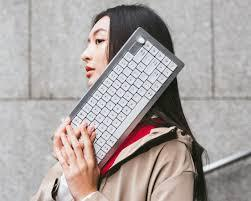keyboard: (67, 26, 184, 166)
